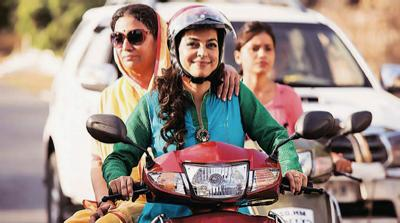With Helmet: (163, 4, 238, 91)
